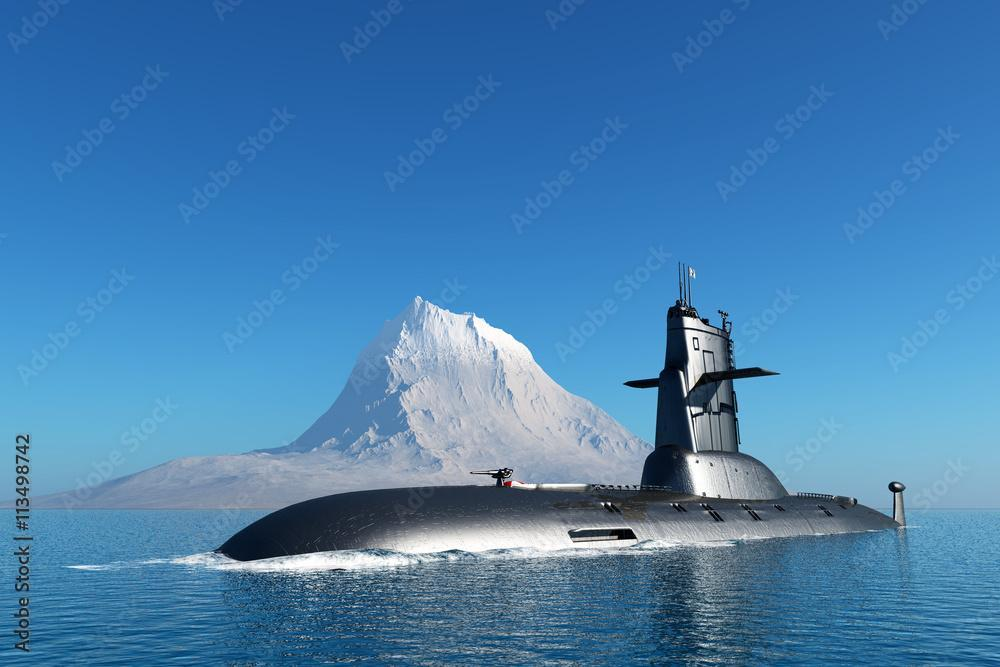Submarine: (155, 260, 935, 627)
